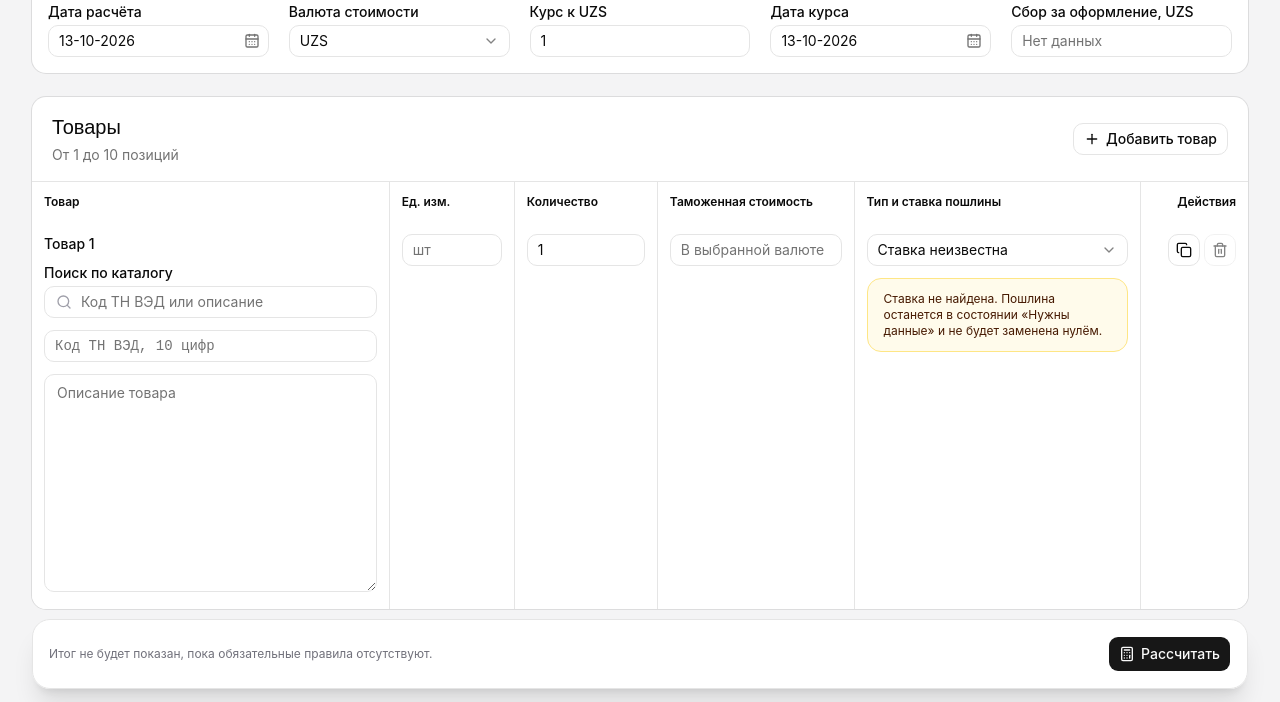
Scenario: calculator page › does not replace a missing duty rate with zero
(page scrolled)
Type "0123456789" into the field labelled "Код ТН ВЭД" at [210, 346], box [44,330,377,362]
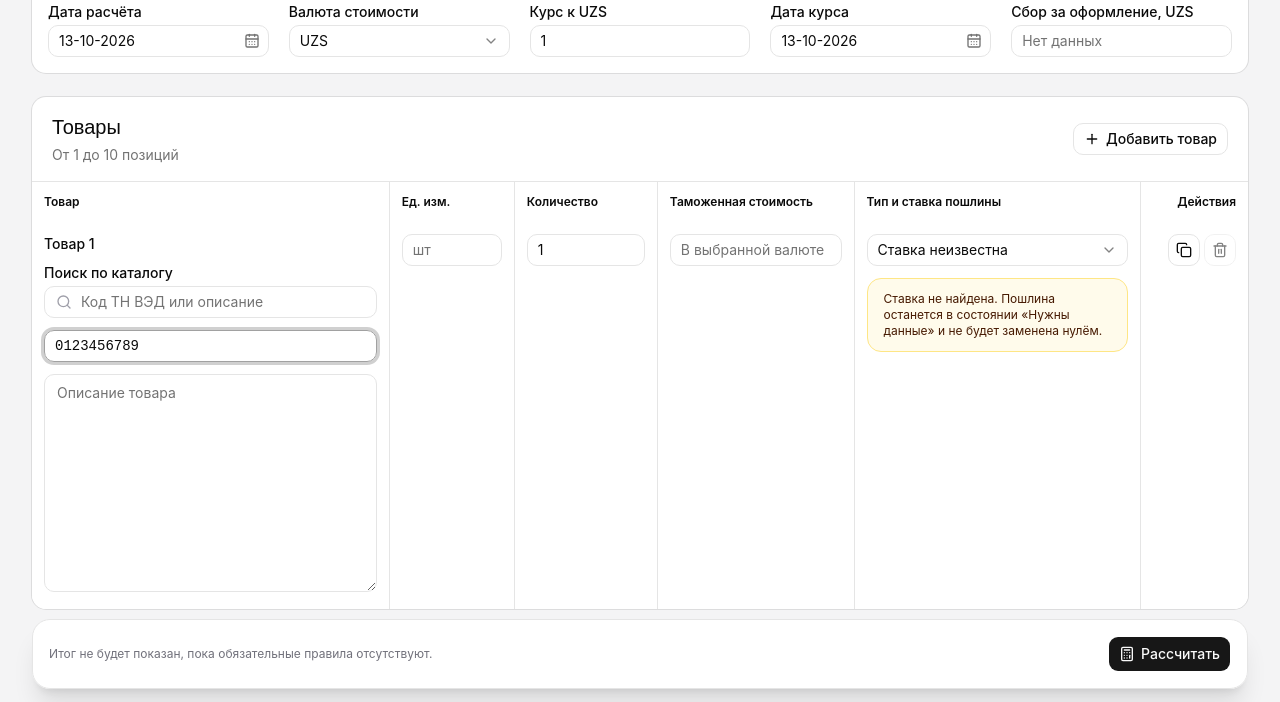
Type "Синтетический товар без ставки" into the text box labelled "Описание" at [210, 483], box [44,374,377,592]
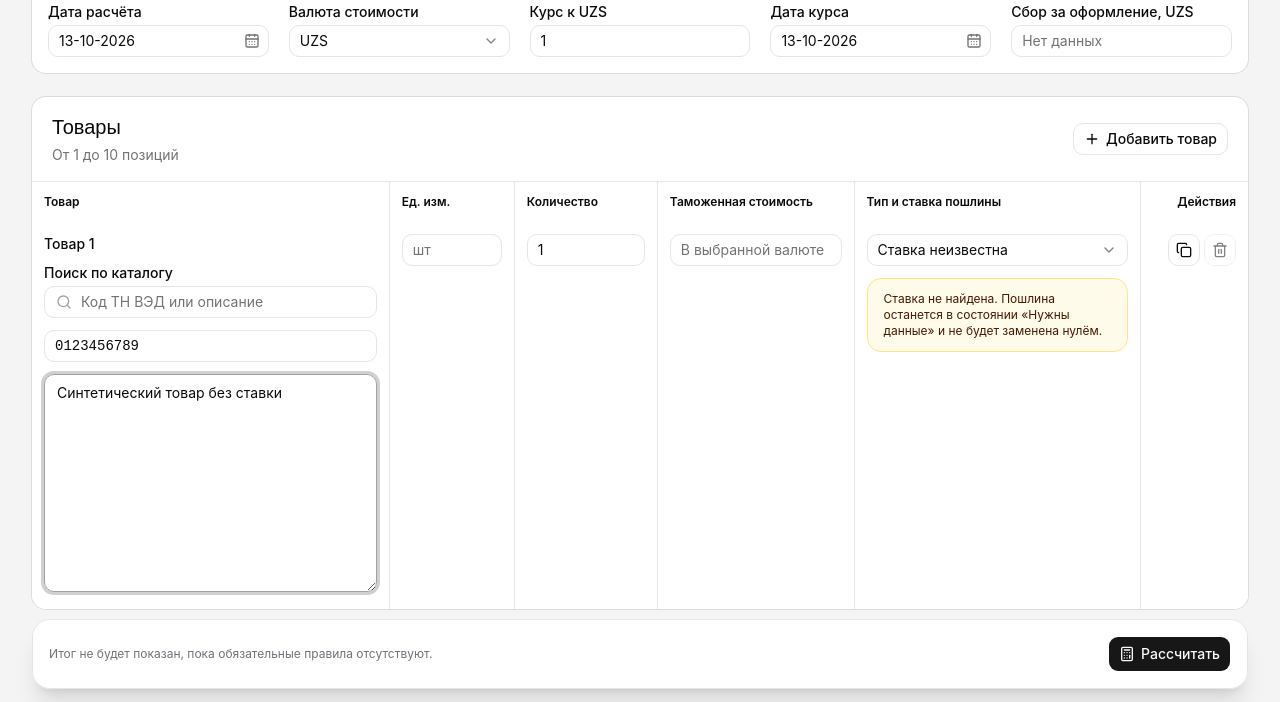
Type "100" into the field named "Таможенная стоимость" at [756, 250], box [670,234,842,266]
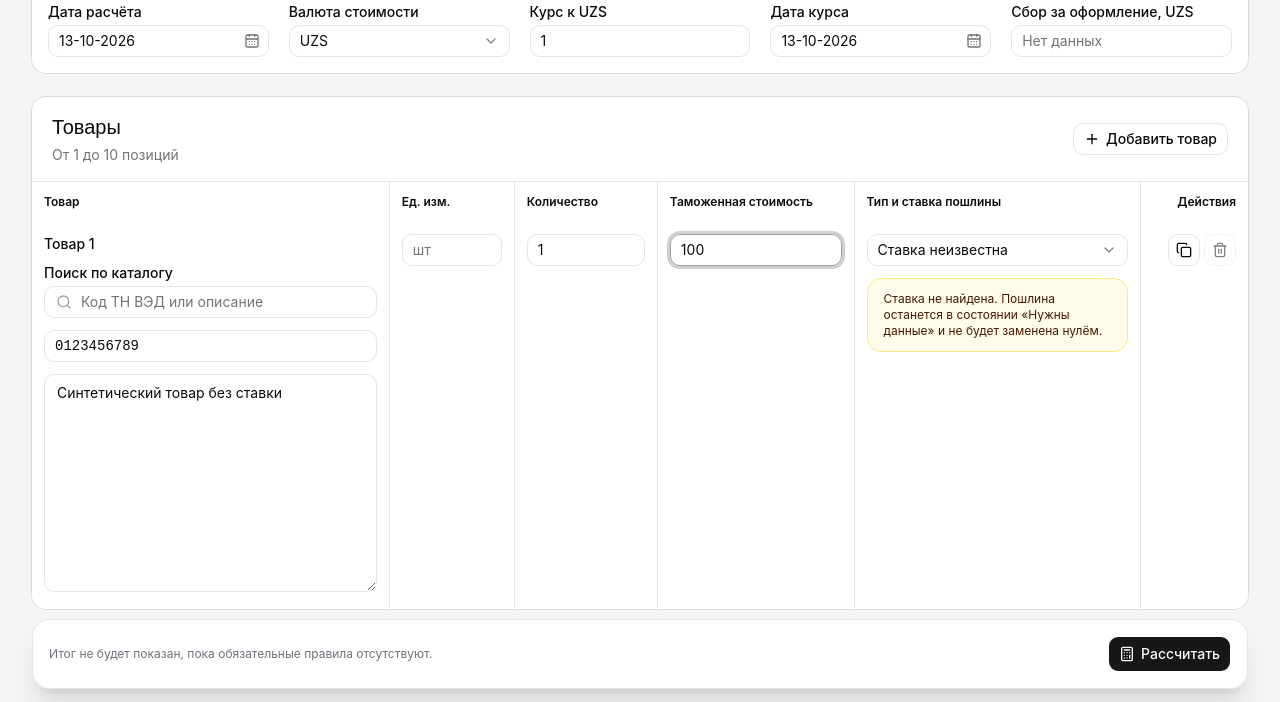
Click the button "Рассчитать" at [1170, 654], box [1108,636,1231,672]
(page scrolled)
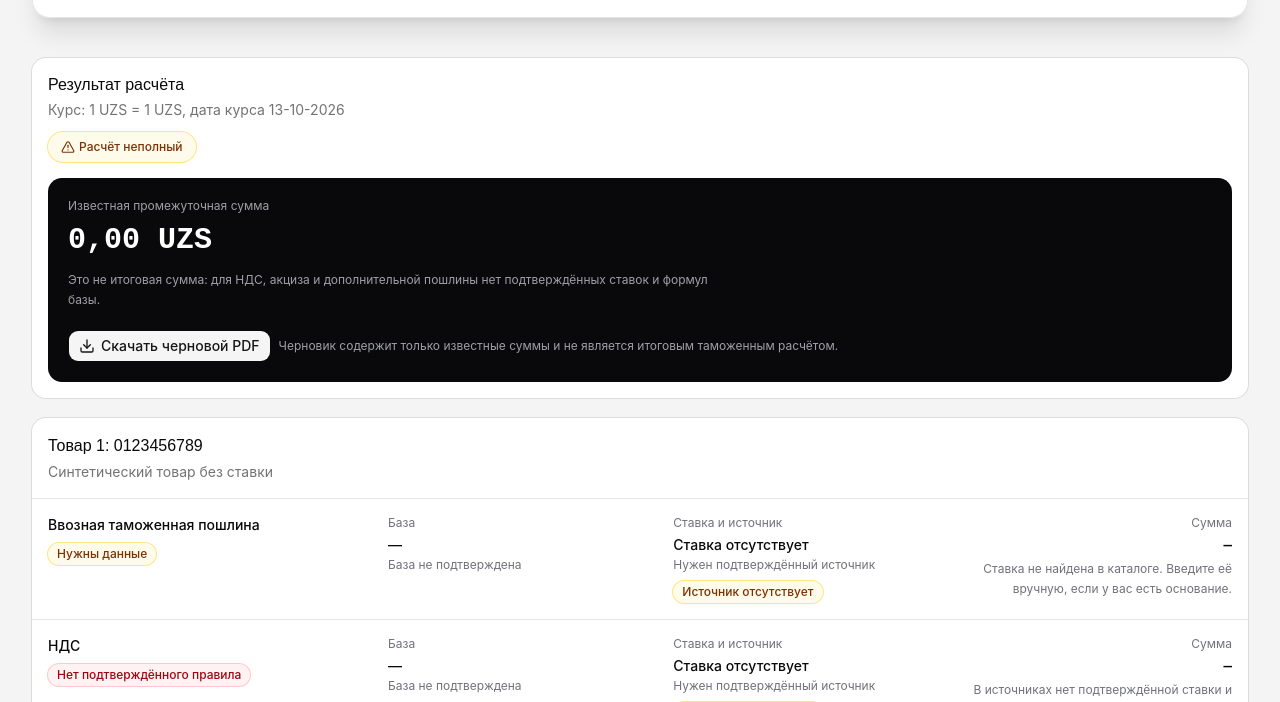
Check: the text "Результат расчёта" is shown, box [48,76,184,93]
Check: the text "Расчёт неполный" is shown, box [48,132,196,162]
Check: the text "Нужны данные" is shown, box [48,543,156,565]
